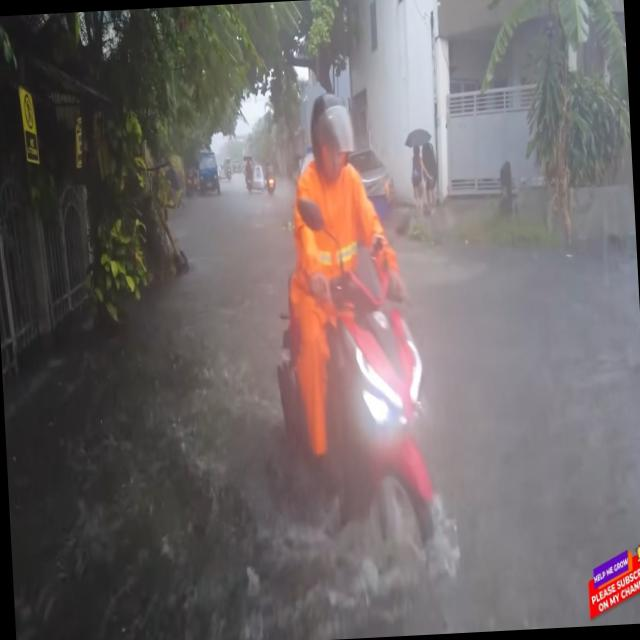half: (303, 84, 360, 189)
